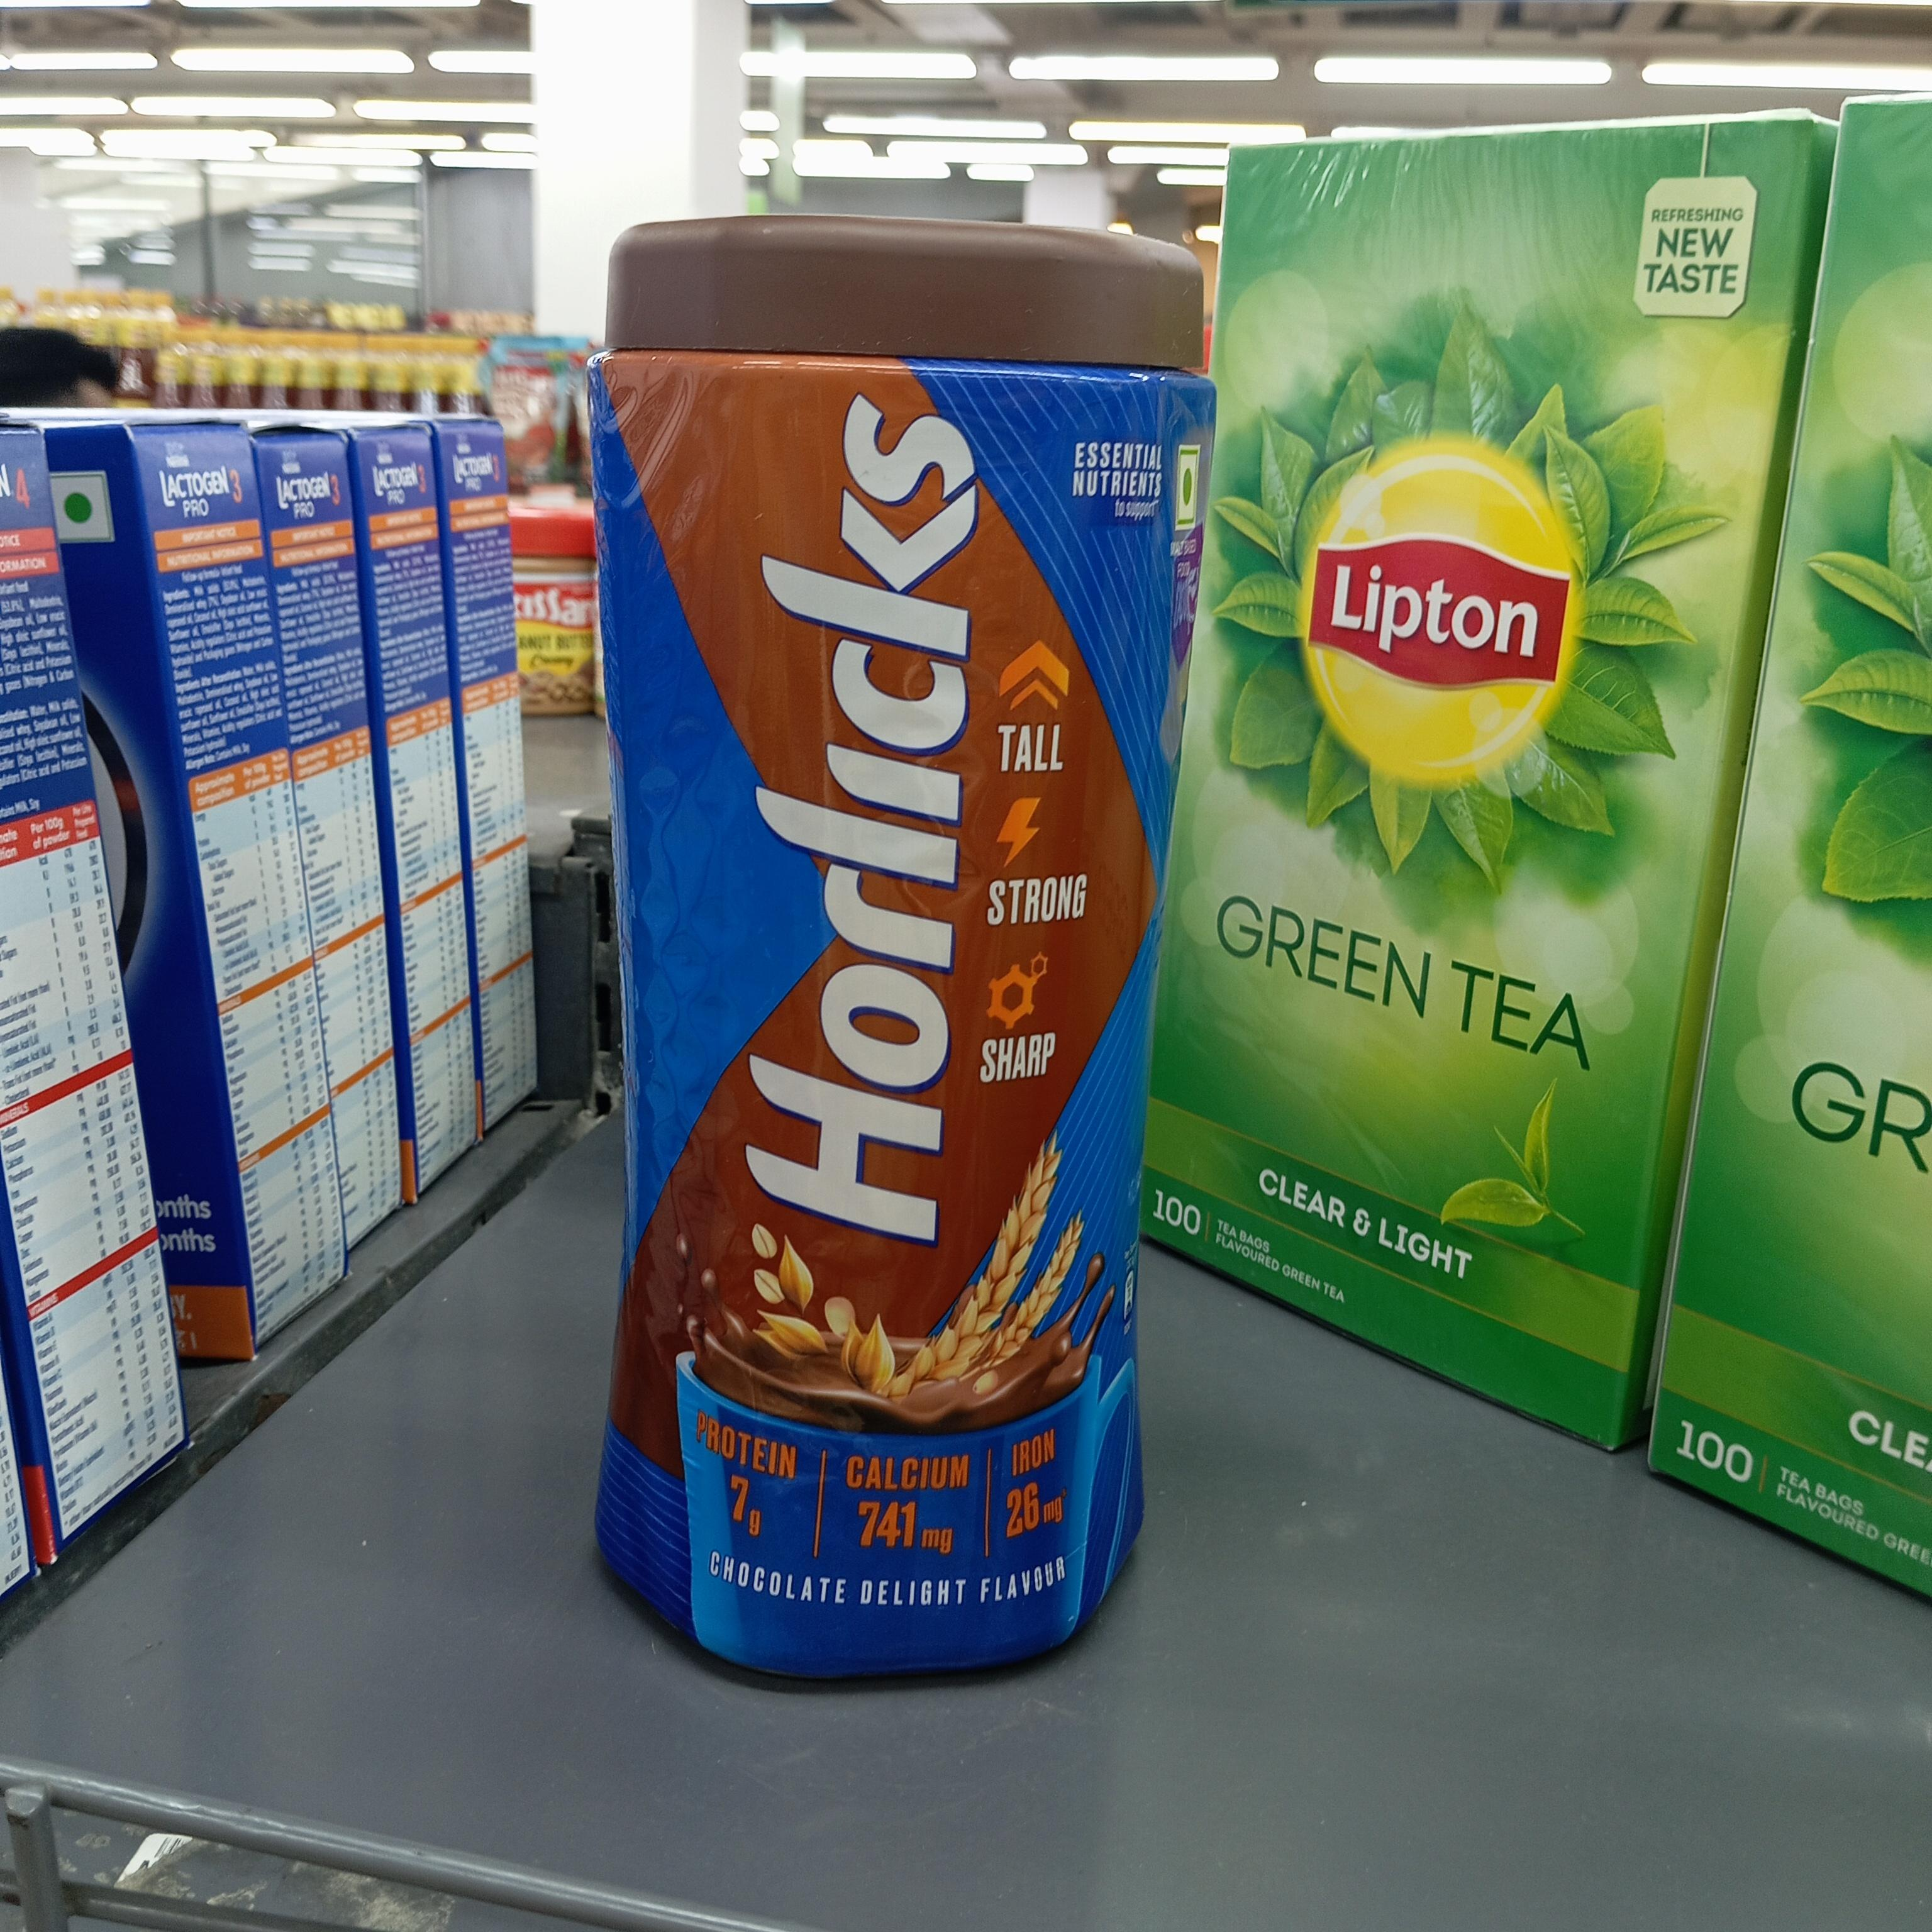HORLICK_CHOCOLATE_1_KG_JAR: (587, 214, 1214, 1686)
